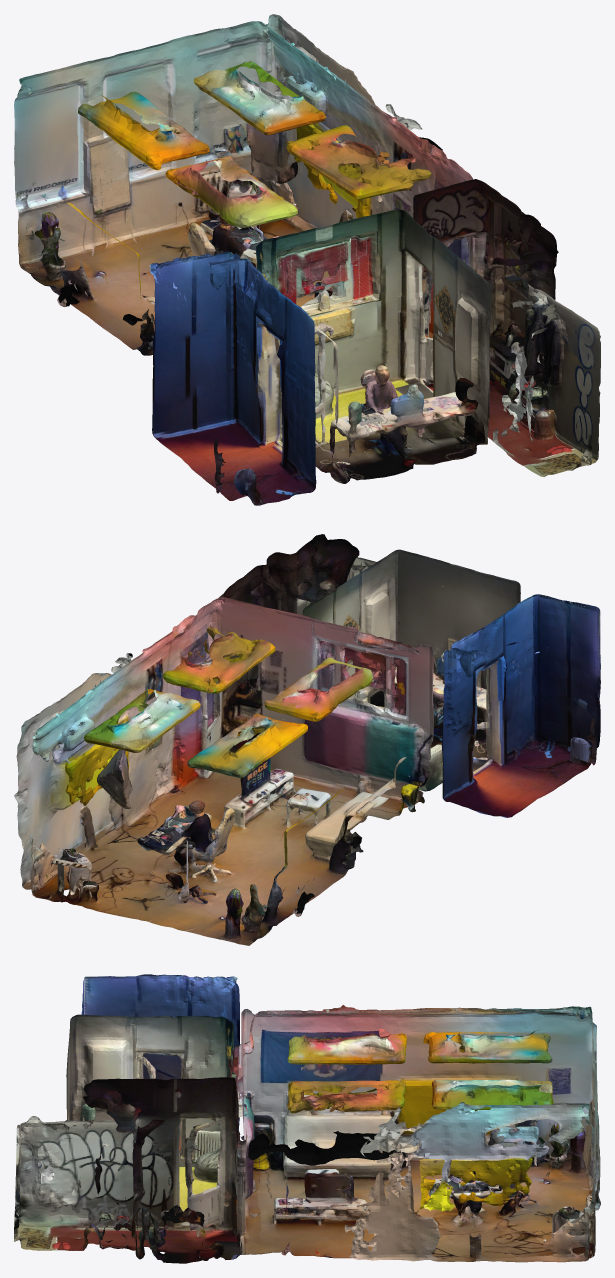
File: my_scene_mobile.glb
3 views of the same model, one above another, from view 1: azimuth 30°, elevation 25°; view 2: azimuth 150°, elevation 25°; view 3: azimuth 270°, elevation 25° (orthographic). The views are drawn at different scales.
Size of the model in its own units: 6.3 by 3.08 by 10.18.
14 materials, 14 textured.
